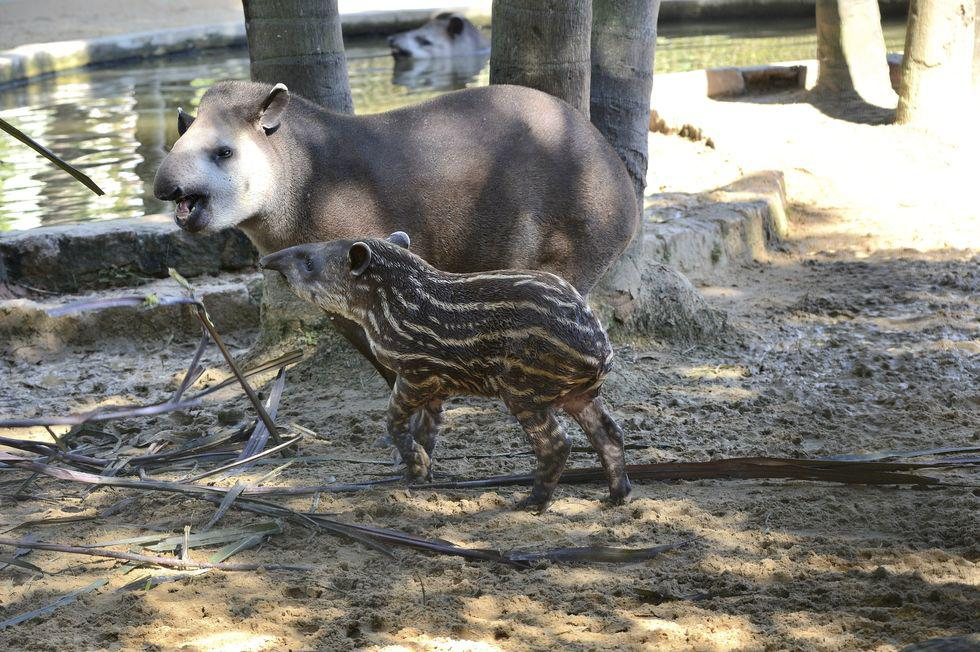Anta: (255, 224, 644, 519), (146, 72, 650, 293)
